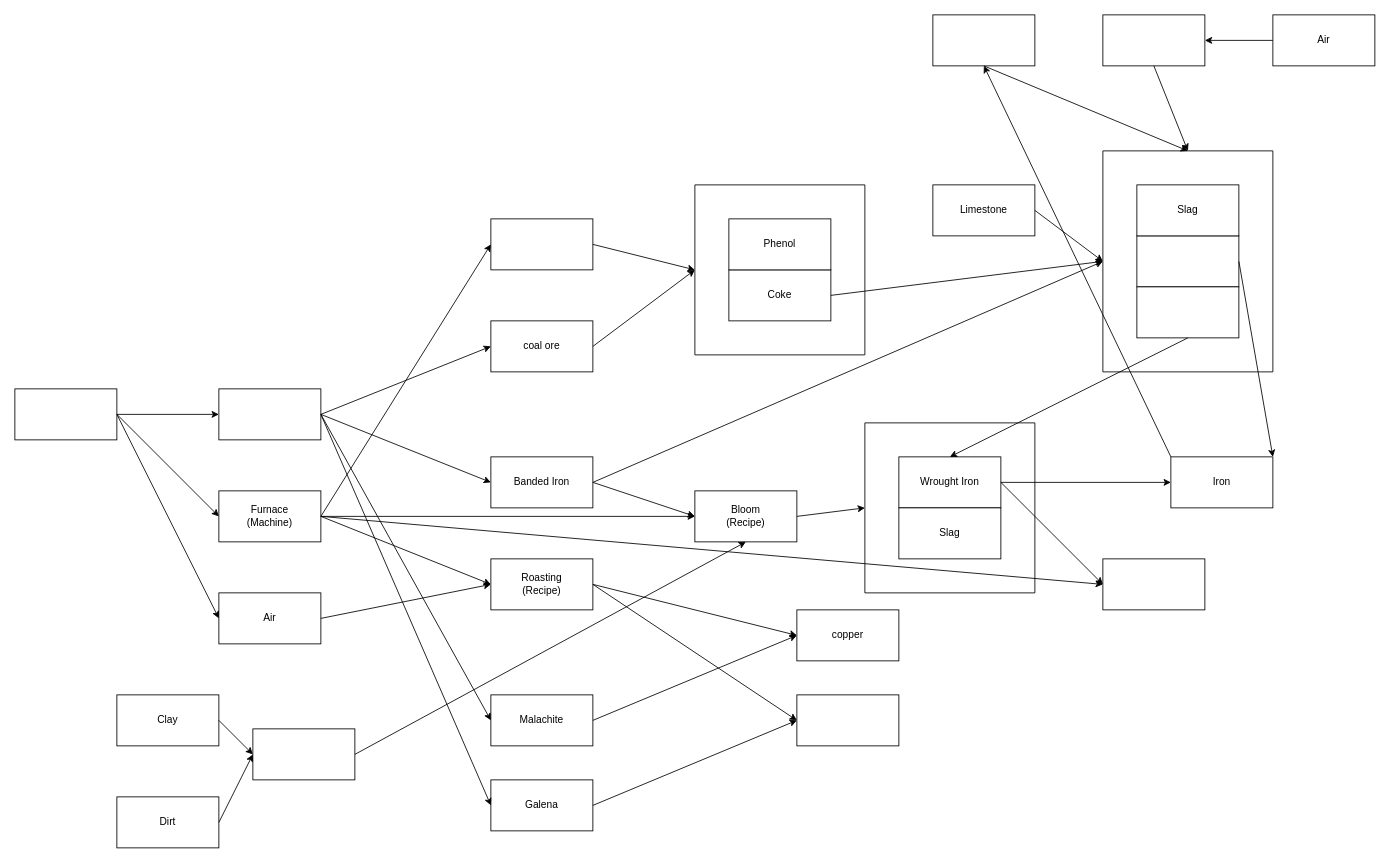
The diagram is 1390 pixels wide and 863 high, and some of its shapes have lost their labels. The shapes that lost their labels are listed below. From the top down, each one's box as (x1, y1, x2, y2) in pixels, then its label:
(932, 14, 1035, 66): Blast Furnace (Machine)
(1102, 14, 1205, 66): Fan (Machine)
(490, 218, 593, 270): Coking (Recipe)
(1136, 235, 1239, 287): Molten Iron
(1136, 286, 1239, 338): Pig iron
(14, 388, 117, 440): Start
(218, 388, 321, 440): Miner (Machine/Recipe)
(1102, 558, 1205, 610): Steel
(796, 694, 899, 746): Lead
(252, 728, 355, 780): Brick
